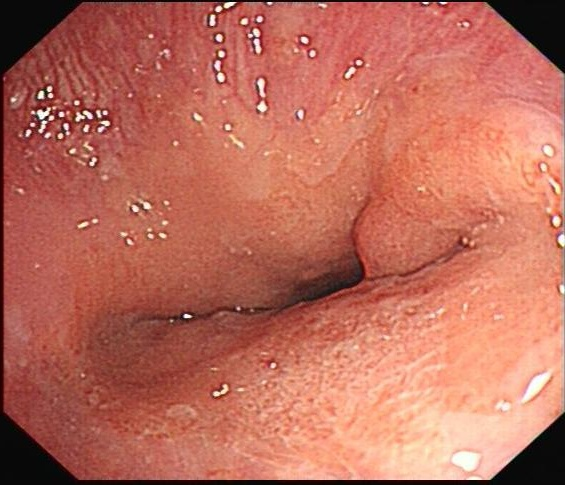Polyp: (351, 188, 465, 281)
